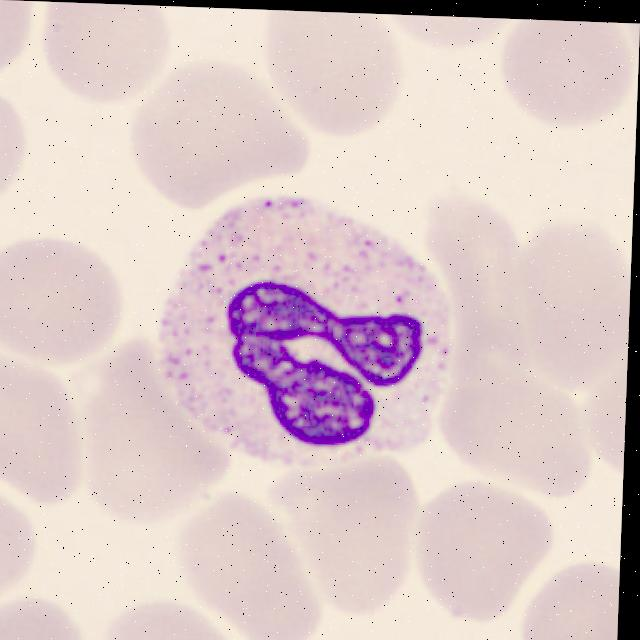neutrophil: (149, 176, 467, 482)
rbc: (83, 344, 243, 533), (417, 189, 541, 391), (168, 501, 332, 640), (270, 472, 429, 606), (141, 72, 304, 201), (415, 482, 553, 621), (447, 368, 587, 500), (0, 228, 125, 366), (521, 229, 626, 389), (267, 10, 400, 134), (495, 18, 631, 128), (41, 2, 180, 105), (0, 377, 101, 506), (534, 372, 627, 477), (516, 559, 620, 640), (0, 486, 47, 596), (0, 92, 38, 211), (390, 14, 506, 51), (109, 608, 241, 640), (0, 606, 87, 640), (0, 0, 38, 71)
